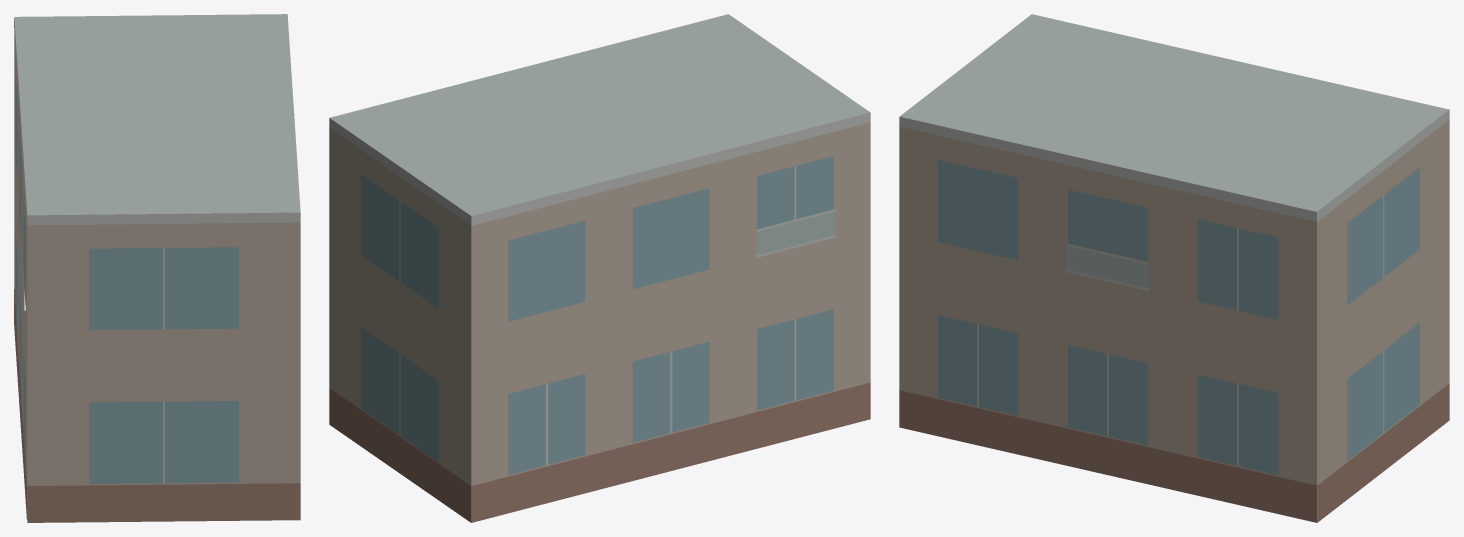
The model's file is survey-upis-32494202.glb.
The picture shows the model from 3 angles, left to right: view 1: azimuth 30°, elevation 25°; view 2: azimuth 150°, elevation 25°; view 3: azimuth 270°, elevation 25°; orthographic projection.
Parts seen in each view (by area): view 1: survey-upis-32494202.tmp; view 2: survey-upis-32494202.tmp; view 3: survey-upis-32494202.tmp.
Boxes of the visible parts, left/top/right/bottom form: survey-upis-32494202.tmp: left=14, top=14, right=300, bottom=522; survey-upis-32494202.tmp: left=329, top=14, right=870, bottom=522; survey-upis-32494202.tmp: left=899, top=14, right=1449, bottom=522.
Size of the model in its own units: 10.39 by 7.6 by 12.2.
